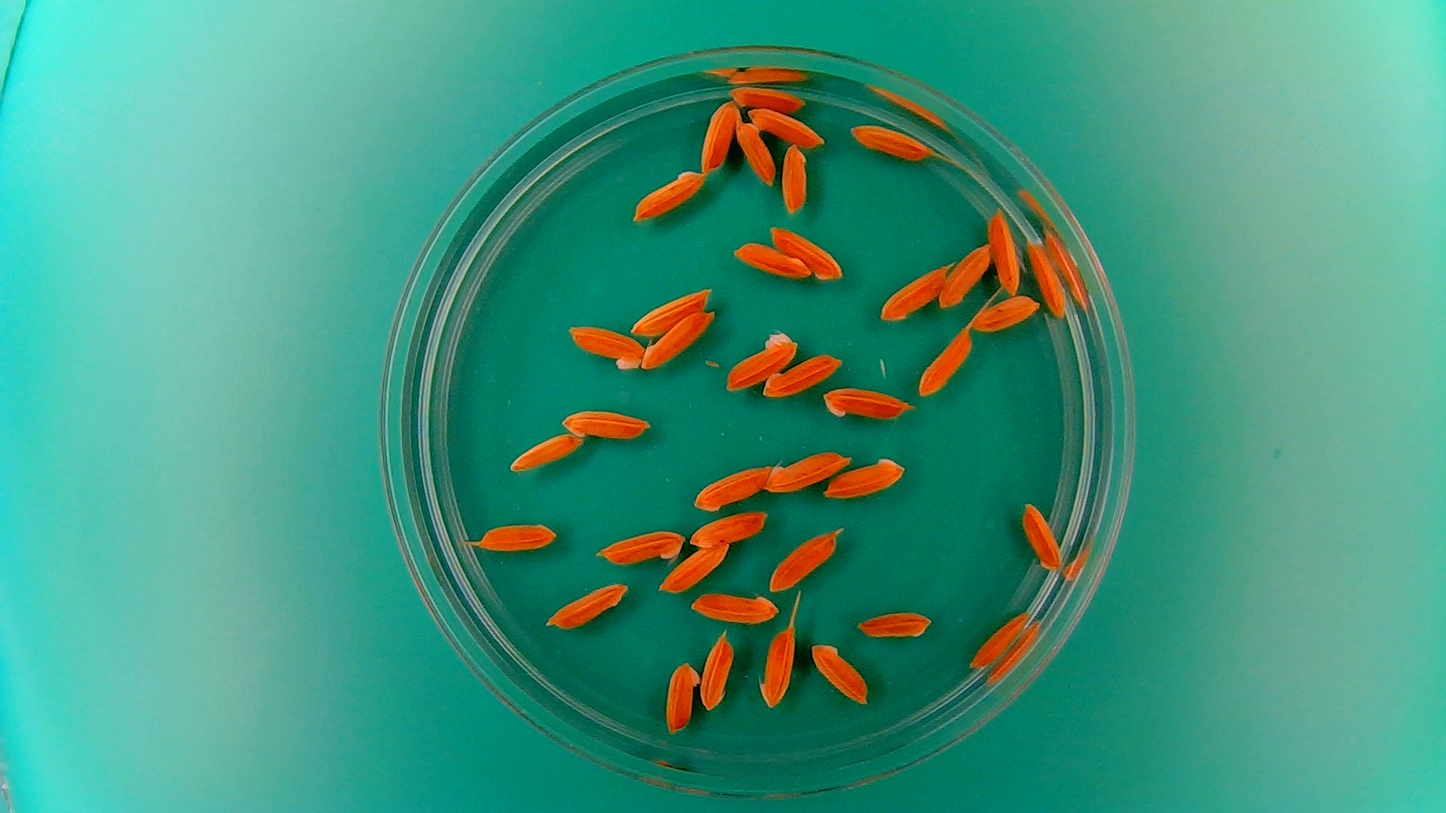no: (767, 526, 844, 593), (721, 328, 799, 393), (769, 222, 848, 282), (640, 309, 716, 371), (542, 579, 630, 631), (629, 167, 708, 224), (877, 260, 949, 322), (563, 321, 647, 372), (917, 325, 975, 398), (966, 606, 1031, 671), (808, 639, 870, 707), (760, 349, 844, 399), (629, 285, 713, 335), (764, 448, 853, 495), (1024, 236, 1072, 322), (657, 539, 731, 594), (691, 461, 770, 512), (823, 454, 906, 502), (937, 240, 993, 309), (596, 524, 685, 566), (821, 382, 914, 422), (746, 108, 830, 151), (849, 120, 935, 162), (559, 403, 654, 441), (1019, 498, 1065, 573), (987, 206, 1025, 296), (687, 507, 769, 548), (472, 517, 559, 555), (506, 431, 584, 473), (758, 623, 796, 709), (704, 100, 747, 176), (698, 629, 736, 712), (733, 117, 777, 187), (731, 239, 808, 279), (969, 291, 1042, 333), (854, 606, 935, 643), (662, 658, 700, 735), (726, 80, 805, 109), (779, 140, 809, 215)
